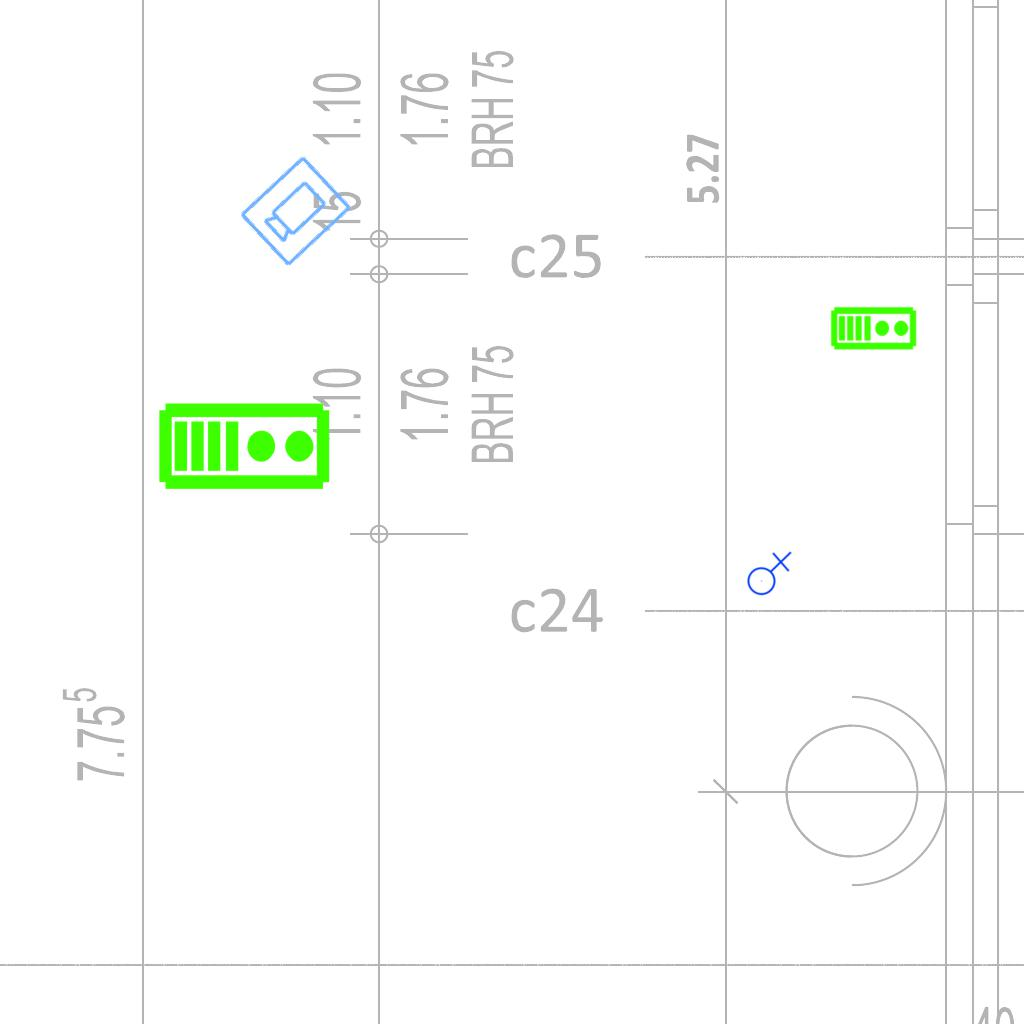Elektroanschluss_allgemein_230V_Geraeteanschlussdose_230V: (743, 549, 792, 596)
Gegensprechanlage_mit_Video: (157, 397, 333, 492), (830, 304, 918, 351)
KFO_Kamera_mit_Festobjektiv: (235, 151, 356, 270)
